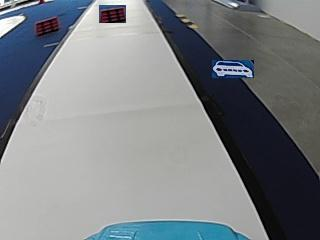bomb: (35, 15, 58, 34)
